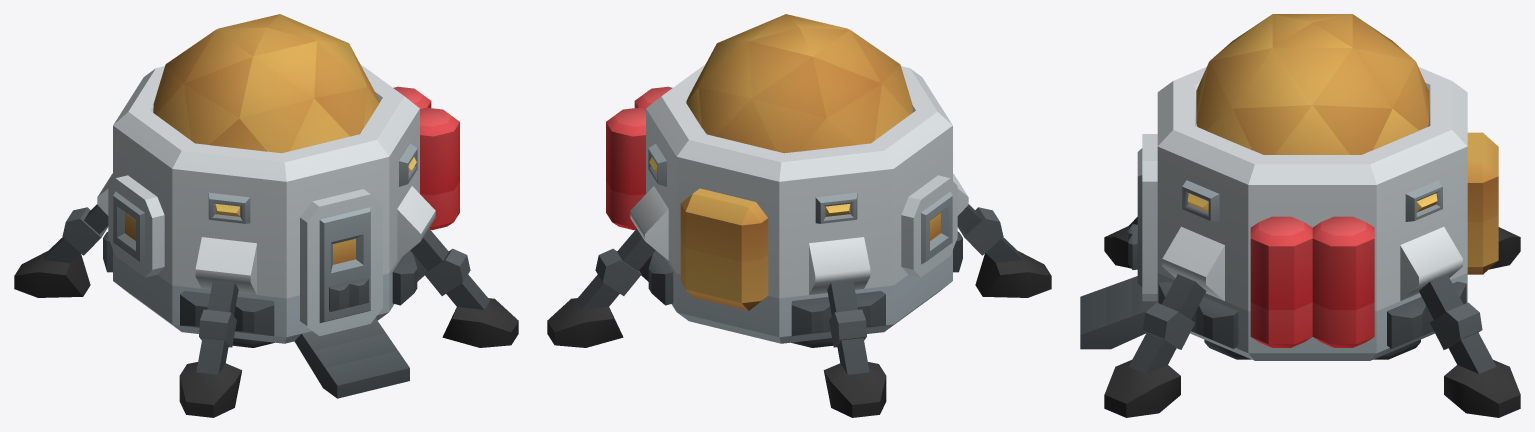
File: ship.glb
3 renders of one model, left to right at view 1: azimuth 30°, elevation 25°; view 2: azimuth 150°, elevation 25°; view 3: azimuth 270°, elevation 25°, orthographic. The views are drawn at different scales.
Parts seen in each view (by area): view 1: lander_B; view 2: lander_B; view 3: lander_B.
Boxes of the visible parts, box(x1,y1,x2,y2) form: lander_B: box(14, 14, 518, 417); lander_B: box(547, 14, 1051, 417); lander_B: box(1080, 14, 1520, 417).
Size of the model in its own units: 1.37 by 1.1 by 1.42.
1 material, 1 textured.
